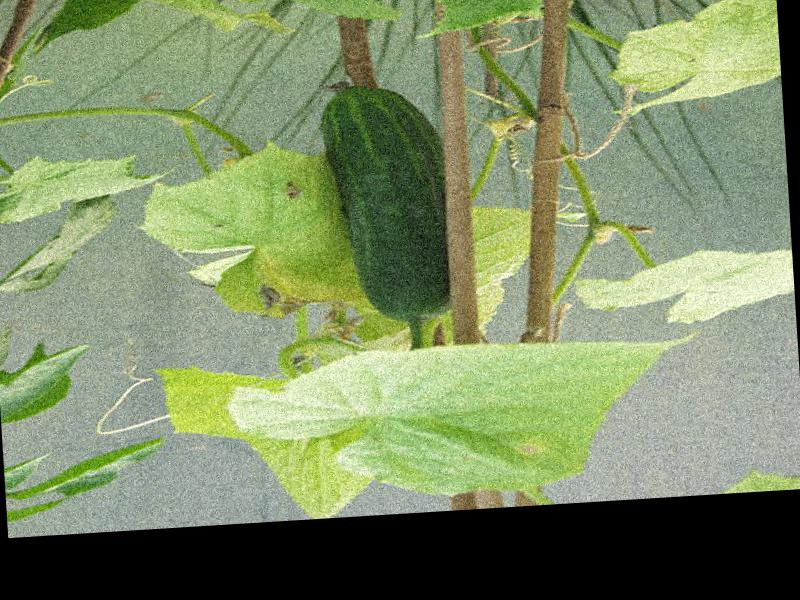Cucumber: (316, 76, 454, 326)
